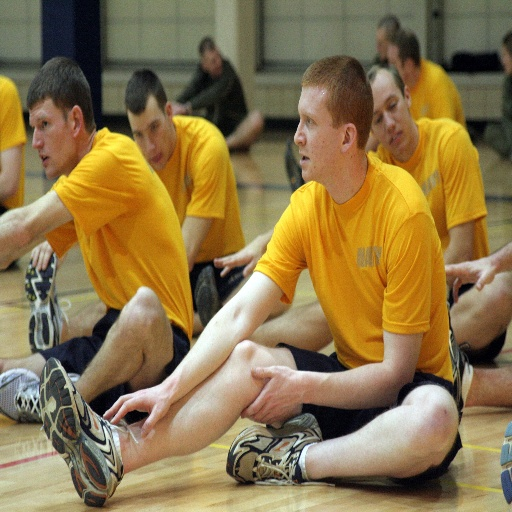hand: (243, 358, 324, 443), (101, 382, 173, 441), (443, 257, 497, 304), (213, 235, 268, 278), (29, 239, 53, 273), (171, 102, 185, 117)
